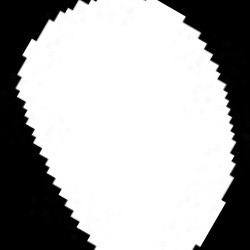spot: (16, 2, 237, 249)
